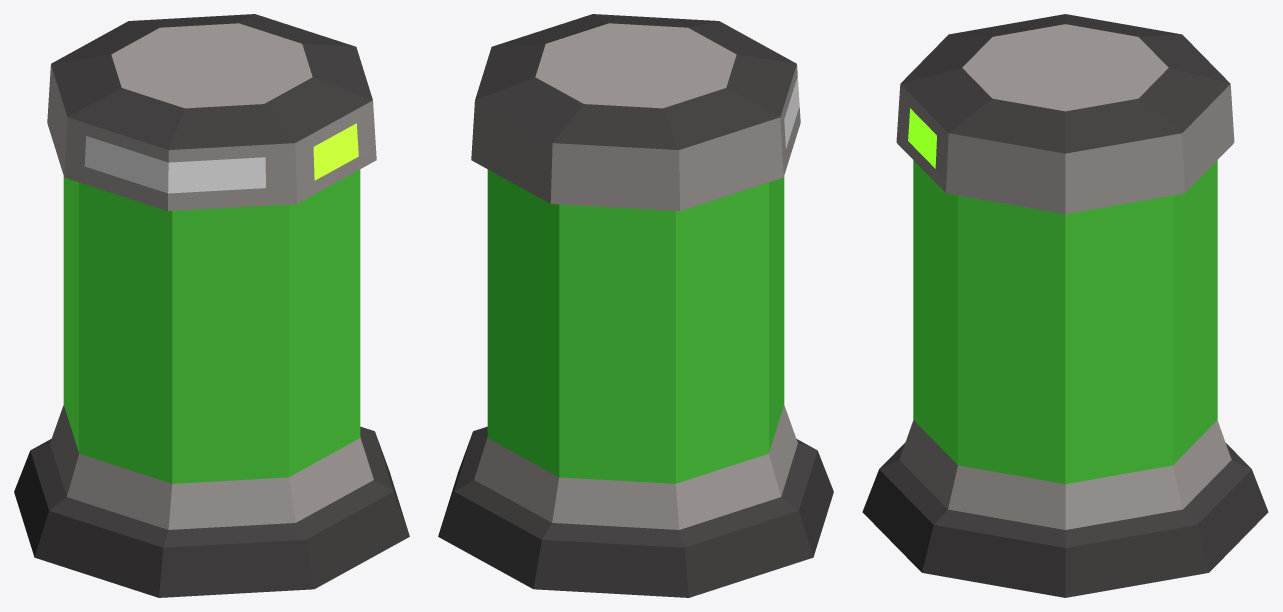
The model's file is scifi_scifi-tube-specimen-small-skull.fbx.
3 renders of one model, left to right at view 1: azimuth 30°, elevation 25°; view 2: azimuth 150°, elevation 25°; view 3: azimuth 270°, elevation 25°, orthographic.
Visible parts, largest first — view 1: scifi_scifi_tube_specimen_small_skull; view 2: scifi_scifi_tube_specimen_small_skull; view 3: scifi_scifi_tube_specimen_small_skull.
Part boxes in pixels (x1=…): scifi_scifi_tube_specimen_small_skull: x1=14, y1=14, x2=409, y2=597; scifi_scifi_tube_specimen_small_skull: x1=438, y1=14, x2=833, y2=597; scifi_scifi_tube_specimen_small_skull: x1=862, y1=14, x2=1268, y2=597.
Size of the model in its own units: 166 by 200 by 166.
